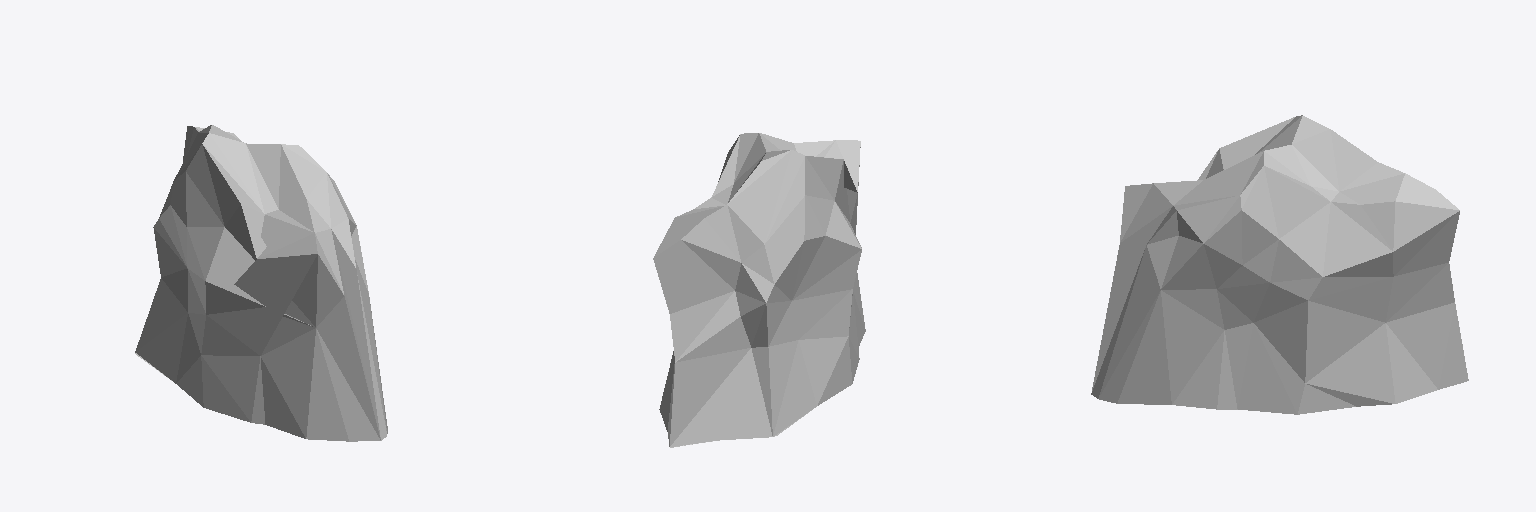
File: DWall.obj
3 views of the same model, side by side, from view 1: azimuth 30°, elevation 25°; view 2: azimuth 150°, elevation 25°; view 3: azimuth 270°, elevation 25° (orthographic).
Visible parts, largest first — view 1: Cube; view 2: Cube; view 3: Cube.
Part boxes in pixels (x1,y1,x2,y2): Cube: (135, 125, 387, 441); Cube: (653, 133, 865, 447); Cube: (1091, 115, 1468, 414).
Size of the model in its own units: 3.19 by 5.2 by 7.21.